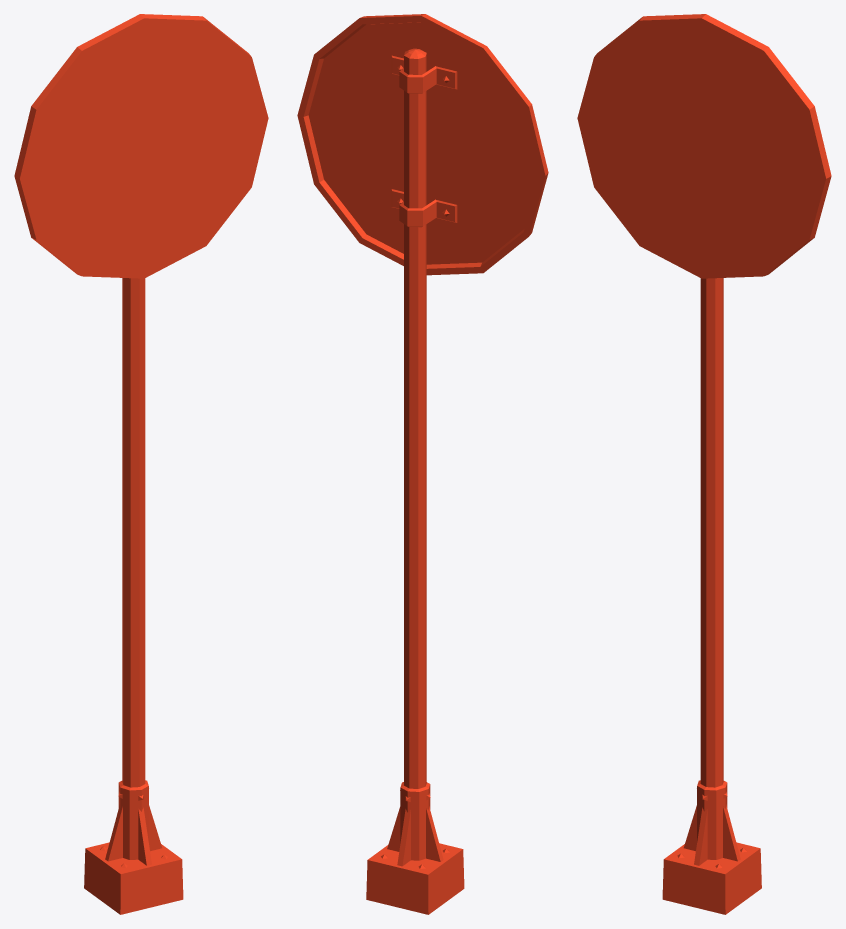
The model's file is SM_Sign_No_Entry_B_City.fbx.
The picture shows the model from 3 angles, left to right: view 1: azimuth 30°, elevation 25°; view 2: azimuth 150°, elevation 25°; view 3: azimuth 330°, elevation 25°; orthographic projection.
Parts seen in each view (by area): view 1: SM_Sign_No_Entry_B_City; view 2: SM_Sign_No_Entry_B_City; view 3: SM_Sign_No_Entry_B_City.
Boxes of the visible parts, x1,y1,x2,y2 form: SM_Sign_No_Entry_B_City: [14, 14, 268, 914]; SM_Sign_No_Entry_B_City: [297, 14, 548, 914]; SM_Sign_No_Entry_B_City: [577, 14, 831, 914].
Bounding box in the file's own units: 0.733 × 2.47 × 0.1839.
